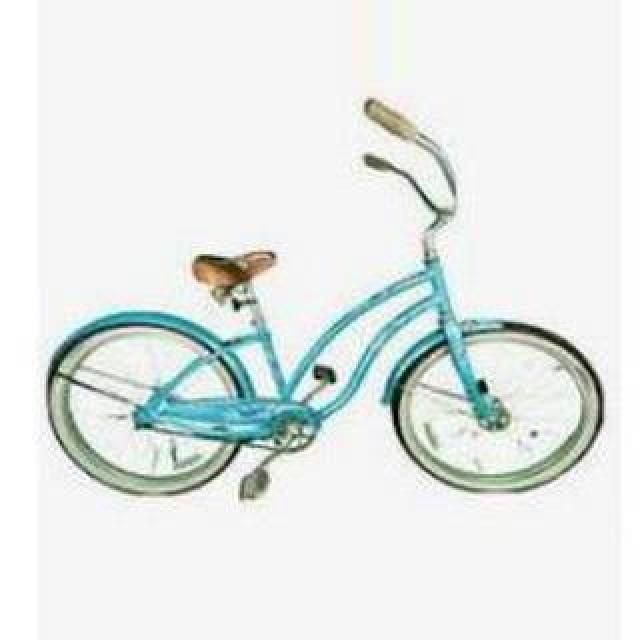Person: (17, 87, 629, 531)
